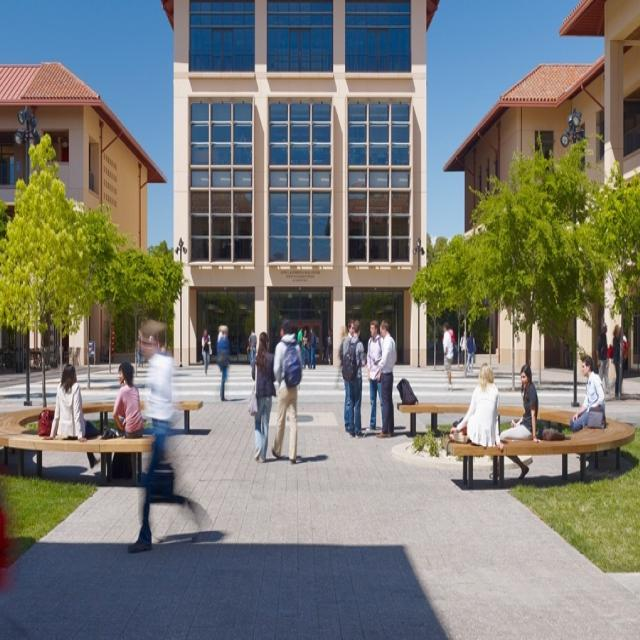body: (121, 309, 213, 554), (40, 362, 106, 471), (487, 360, 543, 484), (447, 360, 506, 455), (270, 316, 304, 466), (569, 352, 606, 472), (247, 330, 279, 464), (112, 360, 144, 479), (341, 319, 368, 440), (374, 319, 398, 439), (0, 485, 18, 640), (366, 319, 384, 431), (132, 326, 170, 370), (342, 318, 356, 434), (594, 320, 612, 401), (215, 322, 231, 402), (333, 322, 350, 390), (612, 322, 624, 402), (442, 320, 455, 393), (200, 327, 212, 378), (465, 330, 477, 376), (321, 327, 334, 366), (618, 326, 628, 371), (248, 327, 258, 370), (458, 329, 468, 372), (308, 325, 316, 371), (452, 338, 462, 366), (296, 325, 304, 350), (301, 328, 309, 352)
